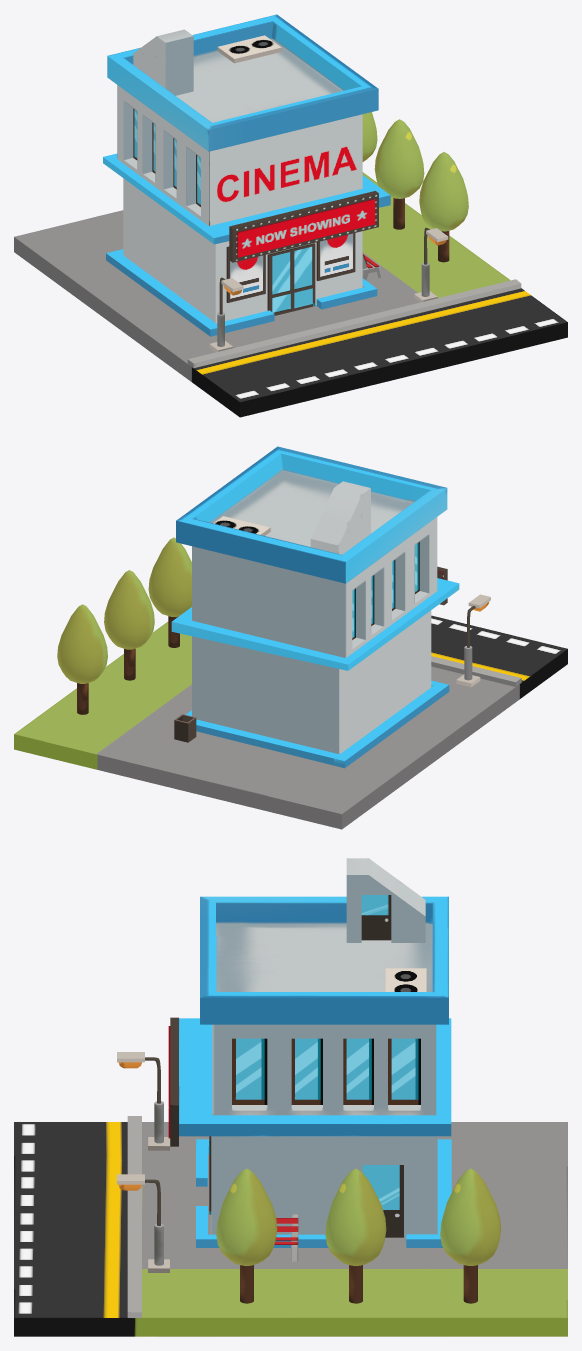
The model's file is isometric_cinema.glb.
3 views of the same model, one above another, from view 1: azimuth 30°, elevation 25°; view 2: azimuth 150°, elevation 25°; view 3: azimuth 270°, elevation 25° (orthographic). The views are drawn at different scales.
Parts seen in each view (by area): view 1: Cinema_Asset; view 2: Cinema_Asset; view 3: Cinema_Asset.
Boxes of the visible parts, x1,y1,x2,y2 form: Cinema_Asset: (14,14,567,417); Cinema_Asset: (14,446,567,829); Cinema_Asset: (14,858,567,1336).
Bounding box in the file's own units: 7.67 × 5.82 × 9.15.
Materials: 1 (1 with a texture image).
